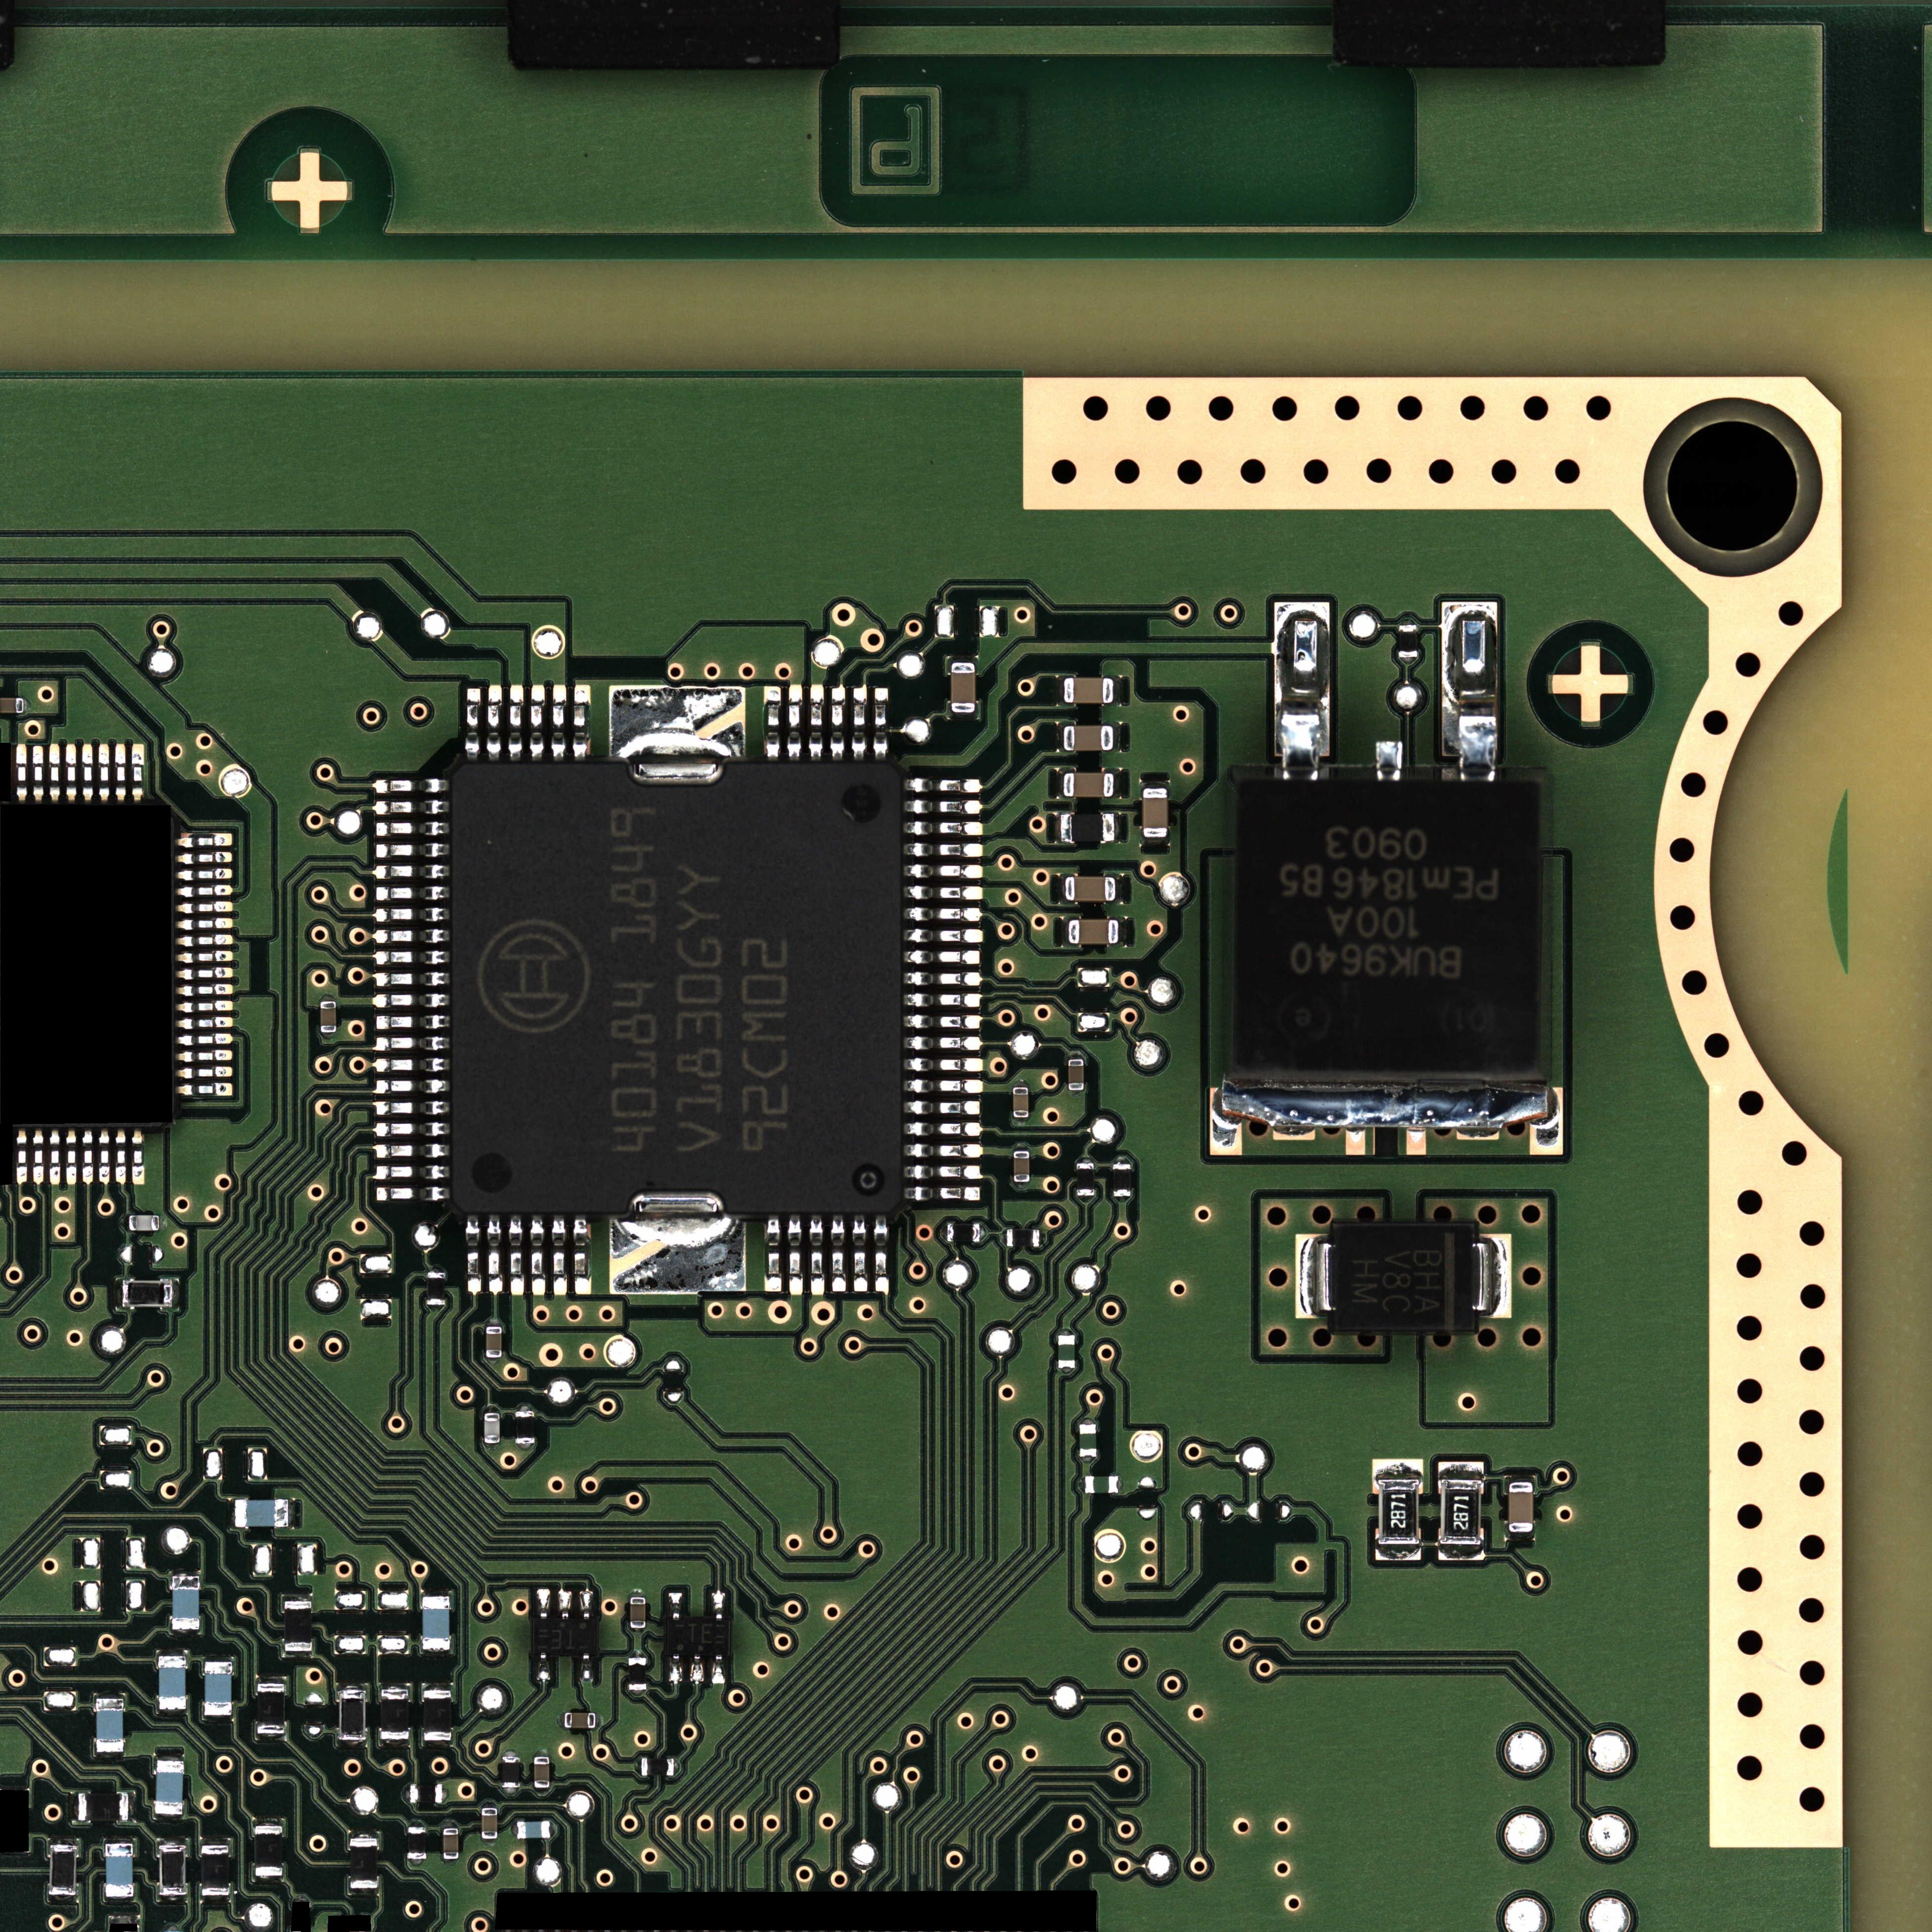Package: (453, 764, 902, 1214), (1238, 780, 1537, 1072), (1338, 1224, 1474, 1329), (1378, 1479, 1419, 1545), (1440, 1481, 1481, 1545), (667, 1619, 731, 1654), (534, 1619, 596, 1652), (1060, 814, 1115, 842), (172, 1576, 200, 1629), (96, 1698, 124, 1752), (423, 1690, 451, 1741), (159, 1656, 186, 1709), (205, 1661, 232, 1714), (156, 1760, 182, 1813), (235, 1500, 288, 1527), (106, 1844, 133, 1897), (423, 1596, 449, 1649), (380, 1690, 409, 1739), (257, 1684, 285, 1734), (78, 1794, 129, 1821), (122, 1281, 172, 1307), (285, 1601, 311, 1651), (350, 1838, 377, 1888), (202, 1845, 228, 1895), (159, 1845, 186, 1895), (50, 1845, 76, 1895), (255, 1826, 281, 1875), (1063, 678, 1113, 704), (1063, 725, 1113, 752), (1065, 876, 1115, 902), (1063, 773, 1115, 798), (950, 663, 975, 713), (1069, 920, 1118, 945), (1143, 787, 1168, 837), (1509, 1483, 1534, 1532), (340, 1691, 364, 1739), (1398, 625, 1419, 658), (947, 1223, 980, 1242), (501, 1757, 520, 1789), (426, 1272, 446, 1304), (517, 1821, 550, 1838), (1007, 1230, 1040, 1247), (1085, 1476, 1118, 1493), (1077, 1162, 1095, 1196), (628, 1658, 646, 1690), (517, 1412, 534, 1444), (410, 1785, 442, 1803), (642, 1759, 674, 1776), (1058, 1336, 1076, 1368), (1079, 1424, 1097, 1456), (1113, 1164, 1131, 1196), (564, 1713, 596, 1729), (409, 1828, 425, 1859), (442, 1828, 458, 1859), (320, 1001, 336, 1031), (487, 1327, 502, 1357), (630, 1598, 646, 1628), (129, 1215, 159, 1231), (481, 1808, 497, 1838), (534, 1757, 550, 1787), (1014, 1152, 1030, 1182), (1069, 1060, 1085, 1090), (485, 1414, 499, 1444), (1014, 1088, 1028, 1118)
Solder: (1208, 1076, 1564, 1155), (609, 685, 745, 763), (612, 1215, 748, 1293), (1274, 602, 1330, 778), (1442, 602, 1499, 778), (1295, 1233, 1334, 1318), (1474, 1233, 1511, 1318), (373, 971, 451, 989), (373, 1185, 451, 1203), (573, 685, 591, 761), (763, 686, 780, 761), (766, 1217, 784, 1292), (904, 842, 984, 858), (904, 821, 984, 837), (904, 863, 984, 879), (904, 885, 984, 901), (902, 1035, 982, 1051), (902, 1014, 982, 1030), (787, 683, 803, 761), (904, 906, 982, 922), (904, 950, 982, 966), (902, 1077, 980, 1093), (904, 1056, 982, 1072), (904, 993, 982, 1008), (904, 1164, 982, 1180), (906, 1143, 984, 1159), (809, 1217, 824, 1295), (487, 685, 502, 761), (373, 950, 449, 966), (373, 929, 449, 945), (809, 685, 824, 761), (508, 685, 524, 761), (830, 685, 846, 761), (529, 685, 545, 761), (373, 1164, 449, 1180), (373, 1143, 449, 1159), (832, 1217, 847, 1293), (465, 1215, 481, 1292), (375, 863, 449, 879), (375, 842, 449, 858), (375, 821, 449, 837), (373, 800, 448, 816), (373, 778, 448, 794), (375, 1077, 449, 1093), (375, 1056, 449, 1072), (375, 1035, 449, 1051), (373, 1014, 448, 1030), (373, 993, 448, 1008), (487, 1217, 502, 1292), (904, 929, 984, 943), (904, 971, 984, 985), (902, 1100, 982, 1115), (904, 1122, 984, 1136), (510, 1215, 524, 1295), (904, 778, 982, 793), (904, 800, 982, 814), (1375, 741, 1403, 780), (531, 1217, 545, 1295), (373, 908, 449, 922), (853, 685, 867, 761), (552, 685, 566, 761), (904, 1185, 980, 1200), (373, 1122, 449, 1136), (789, 1217, 803, 1293), (575, 1217, 589, 1293), (554, 1217, 568, 1293), (465, 686, 479, 761), (375, 886, 449, 901), (874, 686, 888, 761), (375, 1100, 449, 1115), (874, 1217, 888, 1292), (853, 1217, 867, 1292), (1373, 1460, 1424, 1479), (113, 1129, 129, 1185), (80, 1127, 96, 1184), (131, 1131, 147, 1185), (131, 743, 145, 801), (175, 984, 234, 998), (175, 1049, 234, 1063), (175, 1083, 234, 1097), (14, 1127, 28, 1185), (1438, 1461, 1484, 1479), (177, 833, 234, 847), (177, 885, 234, 899), (177, 901, 234, 915), (177, 916, 234, 931), (177, 932, 234, 947), (177, 950, 234, 964), (177, 966, 234, 980), (177, 998, 234, 1012), (177, 1016, 234, 1030), (177, 1031, 234, 1046), (177, 1065, 234, 1079), (64, 1129, 78, 1185), (48, 1129, 62, 1185), (177, 851, 232, 865), (177, 867, 232, 881), (97, 1129, 111, 1184), (1375, 1545, 1421, 1560), (1438, 1545, 1484, 1560), (32, 743, 44, 801), (81, 743, 94, 801), (32, 1129, 44, 1185), (50, 741, 60, 801), (16, 743, 27, 801), (65, 743, 76, 801), (115, 743, 126, 801), (99, 743, 110, 801), (557, 1589, 573, 1619), (579, 1589, 594, 1619), (579, 1654, 594, 1683), (536, 1589, 550, 1619), (536, 1652, 550, 1683), (711, 1654, 725, 1684), (669, 1654, 683, 1683), (709, 1591, 724, 1619), (669, 1592, 683, 1619), (690, 1656, 704, 1683), (1139, 837, 1171, 847), (1115, 872, 1125, 904), (1113, 676, 1123, 706), (1118, 916, 1129, 947), (113, 1277, 122, 1311), (947, 655, 978, 663), (1115, 812, 1123, 844), (1053, 812, 1062, 844), (1054, 768, 1063, 800), (108, 1914, 140, 1923), (1060, 916, 1069, 947), (1113, 768, 1122, 798), (1113, 722, 1122, 752), (1056, 874, 1065, 904), (71, 1790, 78, 1826), (129, 1790, 136, 1824), (172, 1277, 179, 1309), (288, 1499, 295, 1530), (281, 1651, 313, 1658), (228, 1499, 235, 1530), (281, 1594, 313, 1601), (170, 1629, 202, 1637), (948, 713, 980, 720), (349, 1888, 379, 1895), (48, 1895, 78, 1902), (157, 1895, 188, 1902), (1056, 676, 1063, 706), (1056, 722, 1063, 752), (1139, 780, 1169, 787), (255, 1875, 283, 1882), (1506, 1532, 1534, 1539), (419, 1651, 453, 1656), (421, 1591, 453, 1596), (379, 1684, 410, 1690), (423, 1684, 453, 1690), (203, 1716, 234, 1721), (94, 1752, 124, 1757), (203, 1656, 234, 1661), (338, 1684, 368, 1690), (157, 1711, 188, 1716), (157, 1838, 188, 1844), (200, 1897, 230, 1902), (157, 1651, 188, 1656), (170, 1571, 200, 1576), (349, 1833, 379, 1838), (257, 1677, 287, 1683), (253, 1821, 283, 1826), (104, 1898, 134, 1904), (1506, 1476, 1536, 1481), (106, 1836, 134, 1842), (156, 1815, 184, 1821), (257, 1734, 285, 1739), (50, 1838, 78, 1844), (423, 1741, 451, 1746), (202, 1840, 230, 1845), (96, 1693, 124, 1698), (156, 1755, 184, 1760), (380, 1741, 409, 1746), (338, 1741, 366, 1746), (1040, 1228, 1047, 1249), (980, 1223, 987, 1244), (1076, 1155, 1095, 1162), (1076, 1196, 1095, 1203), (1000, 1228, 1007, 1247), (483, 1407, 501, 1414), (517, 1444, 534, 1451), (1399, 617, 1417, 625), (1399, 658, 1417, 665), (1067, 1051, 1085, 1058), (294, 1893, 308, 1902), (487, 1320, 502, 1327), (502, 1789, 518, 1796), (534, 1789, 550, 1796), (630, 1651, 646, 1658), (630, 1690, 646, 1697), (1014, 1182, 1030, 1189), (23, 697, 30, 713), (426, 1306, 446, 1311), (442, 1783, 448, 1803), (1113, 1198, 1132, 1203), (630, 1591, 644, 1598), (534, 1750, 548, 1757), (124, 1214, 129, 1231), (485, 1359, 502, 1364), (409, 1859, 426, 1865), (403, 1785, 409, 1803), (941, 1224, 947, 1242), (517, 1407, 534, 1412), (511, 1821, 517, 1838), (550, 1821, 556, 1838), (1113, 1157, 1131, 1162), (1058, 1368, 1076, 1373), (1012, 1145, 1030, 1150), (1058, 1329, 1076, 1334), (1012, 1081, 1030, 1086), (1079, 1476, 1085, 1493), (159, 1215, 165, 1231), (428, 1267, 444, 1272), (320, 996, 336, 1001), (320, 1033, 336, 1039), (481, 1838, 497, 1844), (502, 1750, 518, 1755), (559, 1713, 564, 1729), (1079, 1419, 1095, 1424), (1069, 1092, 1085, 1097), (1014, 1118, 1030, 1123), (632, 1629, 646, 1635), (637, 1757, 640, 1775), (1079, 1458, 1097, 1461), (1118, 1476, 1122, 1493), (485, 1444, 501, 1447), (409, 1822, 425, 1826), (481, 1803, 497, 1806), (442, 1824, 458, 1828), (596, 1713, 600, 1729), (676, 1759, 679, 1775), (444, 1859, 458, 1863)
